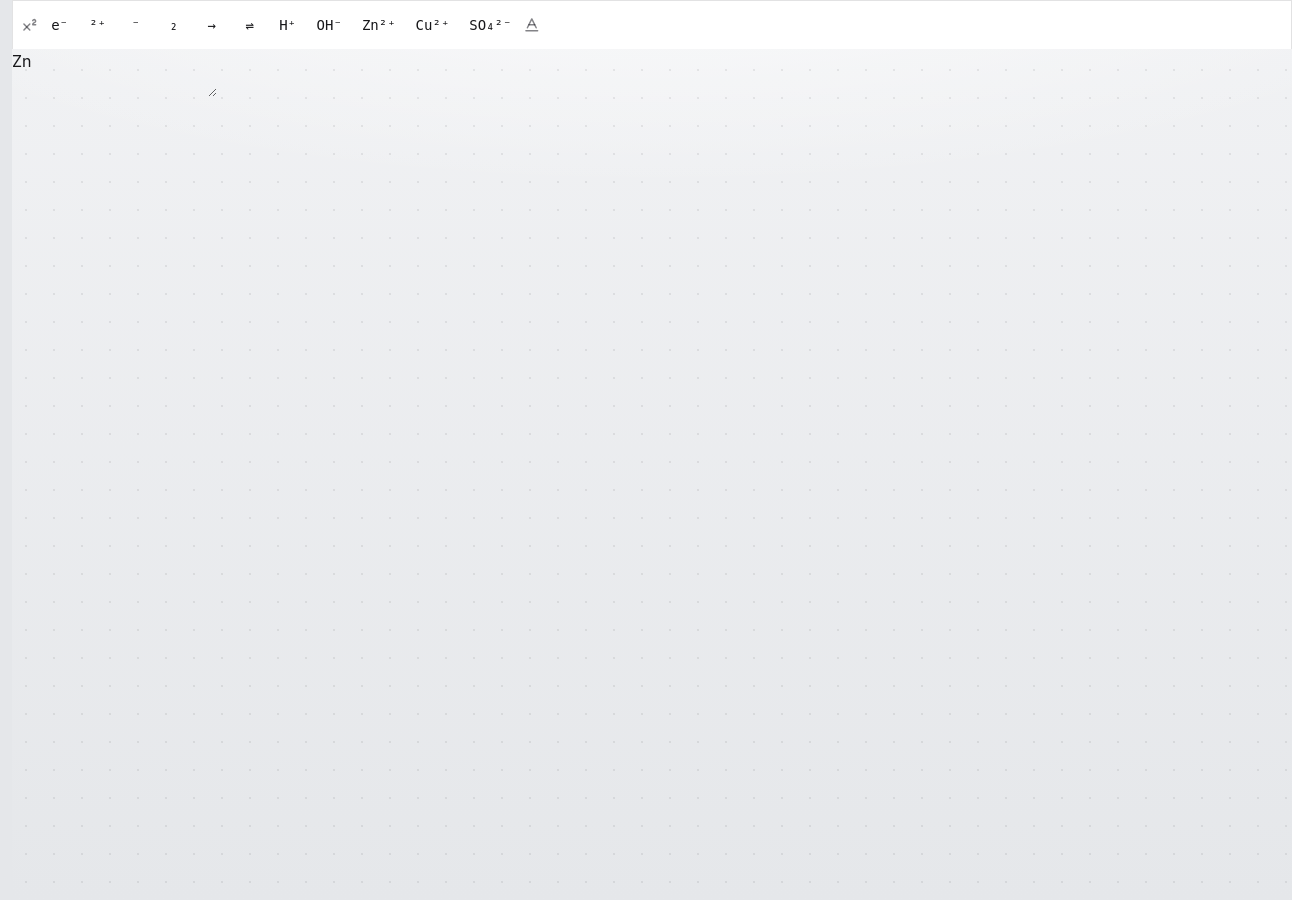
Test case: equation symbol toolbar › inserts chemistry symbols at the current text selection
Click the button named "插入 e⁻". click: (60,25)
box: [43,9,77,41]
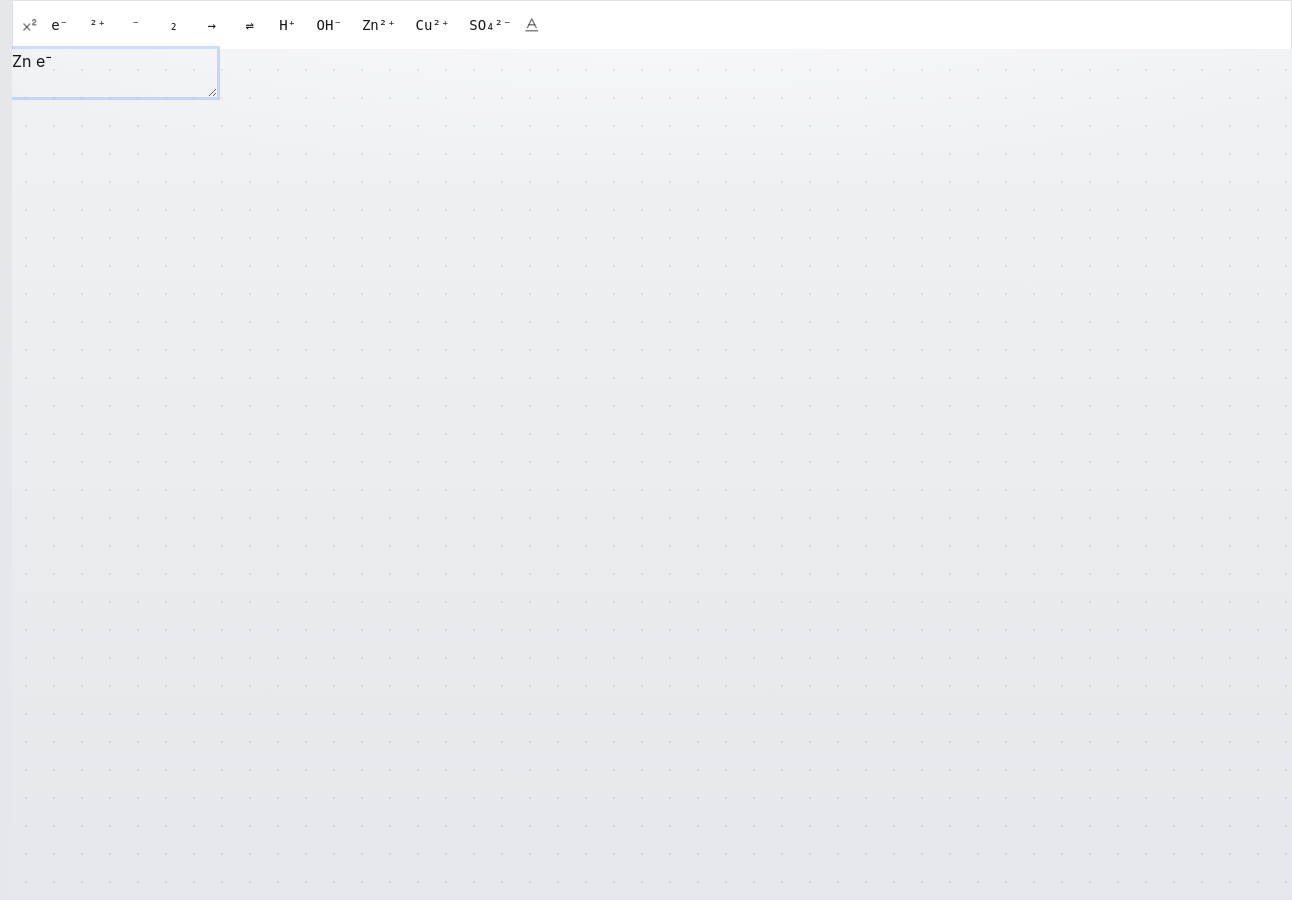
Now the text box named "方程式作答" holds "Zn e⁻", box [12,49,217,97]
